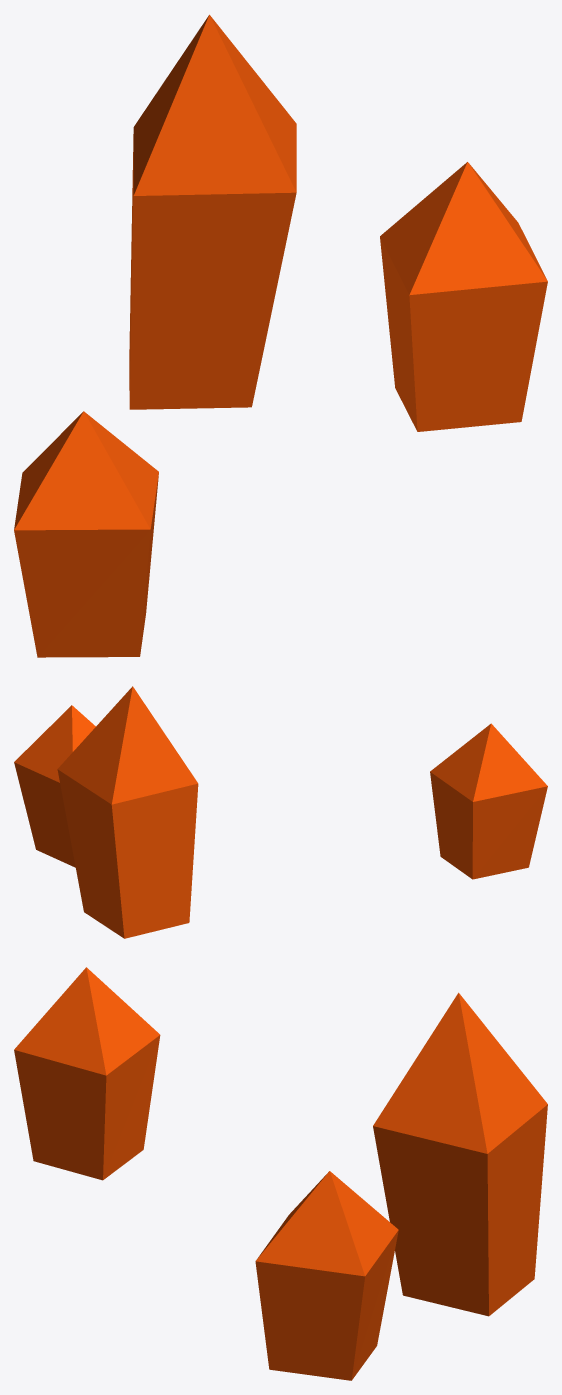
Rendered from crystal_ignis_2.obj.
3 renders of one model, top to bottom at view 1: azimuth 30°, elevation 25°; view 2: azimuth 150°, elevation 25°; view 3: azimuth 270°, elevation 25°, orthographic. The views are drawn at different scales.
Parts seen in each view (by area): view 1: s016, s014, s015; view 2: s016, s015, s014; view 3: s016, s015, s014.
Part boxes in pixels (<box>): s016: <box>129,14,296,409</box>; s014: <box>380,162,547,431</box>; s015: <box>14,411,158,657</box>; s016: <box>57,686,198,938</box>; s015: <box>430,723,547,879</box>; s014: <box>14,705,95,867</box>; s016: <box>373,992,547,1316</box>; s015: <box>14,967,160,1180</box>; s014: <box>255,1171,398,1380</box>.
Size of the model in its own units: 0.8279 by 0.4254 by 0.6865.
